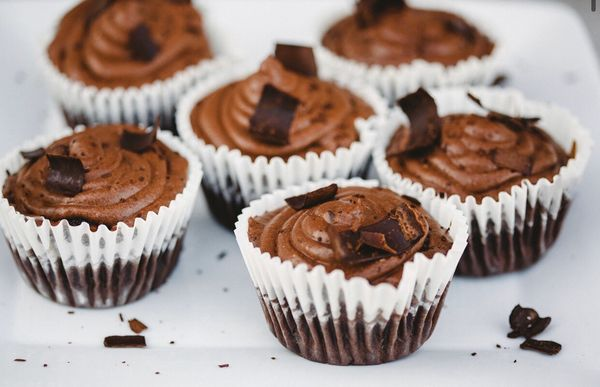curry: (1, 0, 594, 378)
sushi: (234, 181, 469, 366), (368, 85, 595, 276), (0, 121, 203, 309), (180, 51, 384, 230), (36, 0, 223, 134), (318, 0, 504, 106), (458, 180, 568, 277)
